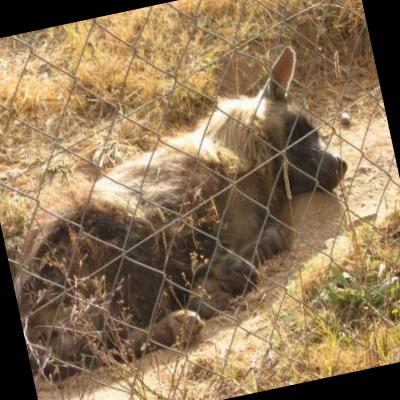hyenas: (0, 51, 393, 400)
